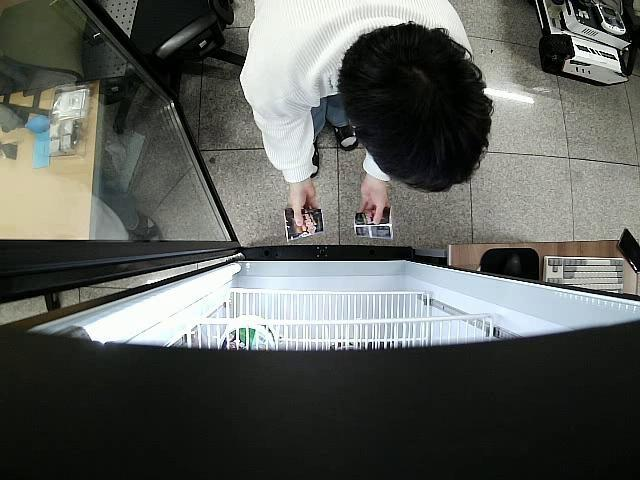08_buldak_S: (353, 205, 398, 240), (282, 207, 324, 242)
